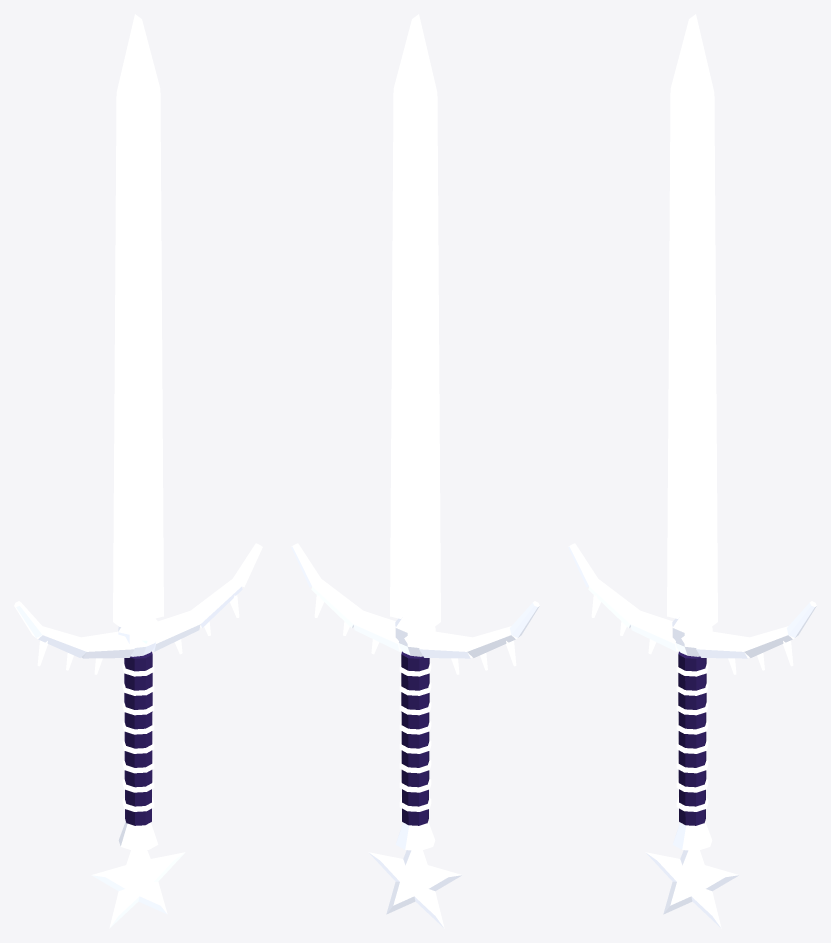
The model's file is long_table_sword.glb.
The picture shows the model from 3 angles, left to right: view 1: azimuth 30°, elevation 25°; view 2: azimuth 150°, elevation 25°; view 3: azimuth 330°, elevation 25°; orthographic projection.
Parts seen in each view (by area): view 1: long_table_sword; view 2: long_table_sword; view 3: long_table_sword.
Boxes of the visible parts, <box> form: long_table_sword: <box>14,14,262,928</box>; long_table_sword: <box>291,14,539,928</box>; long_table_sword: <box>568,14,816,928</box>.
Size of the model in its own units: 0.6944 by 2.43 by 0.1.
